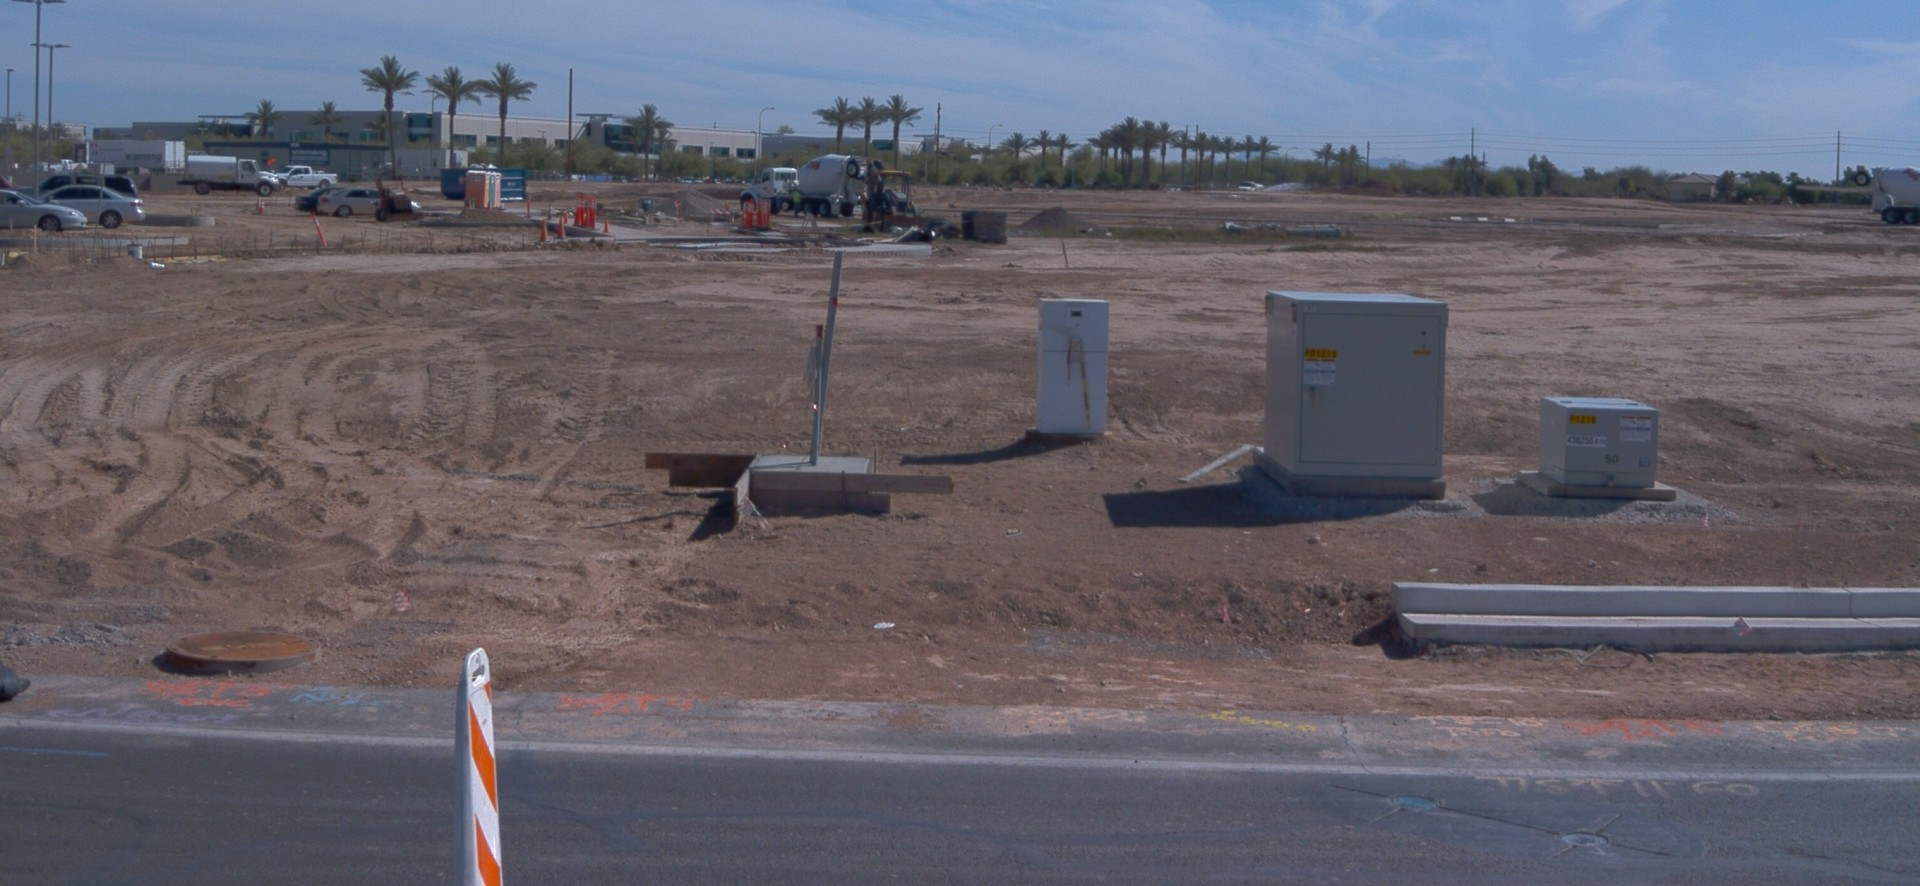TYPE_PEDESTRIAN: (792, 186, 805, 218)
TYPE_VEHICLE: (739, 156, 883, 219), (37, 183, 148, 228), (858, 166, 930, 233), (176, 154, 279, 198), (1855, 161, 1920, 228), (82, 133, 187, 174), (3, 173, 133, 204), (0, 189, 88, 233), (309, 186, 418, 218), (10, 140, 84, 178), (374, 161, 418, 223), (274, 162, 341, 192), (292, 187, 333, 215), (1239, 181, 1267, 195), (0, 173, 15, 191)
